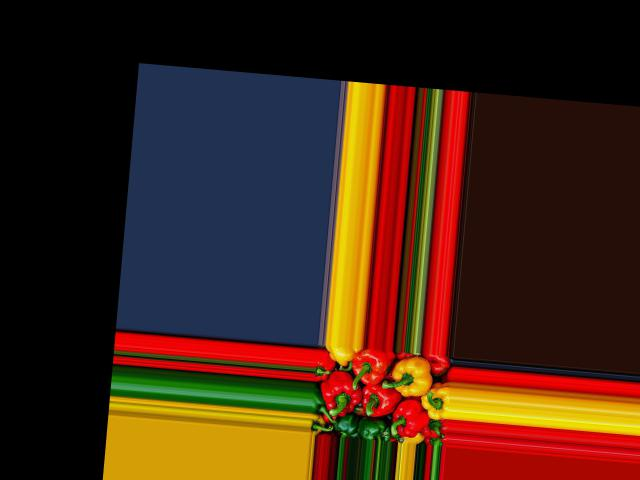bell_pepper: (328, 344, 353, 365)
